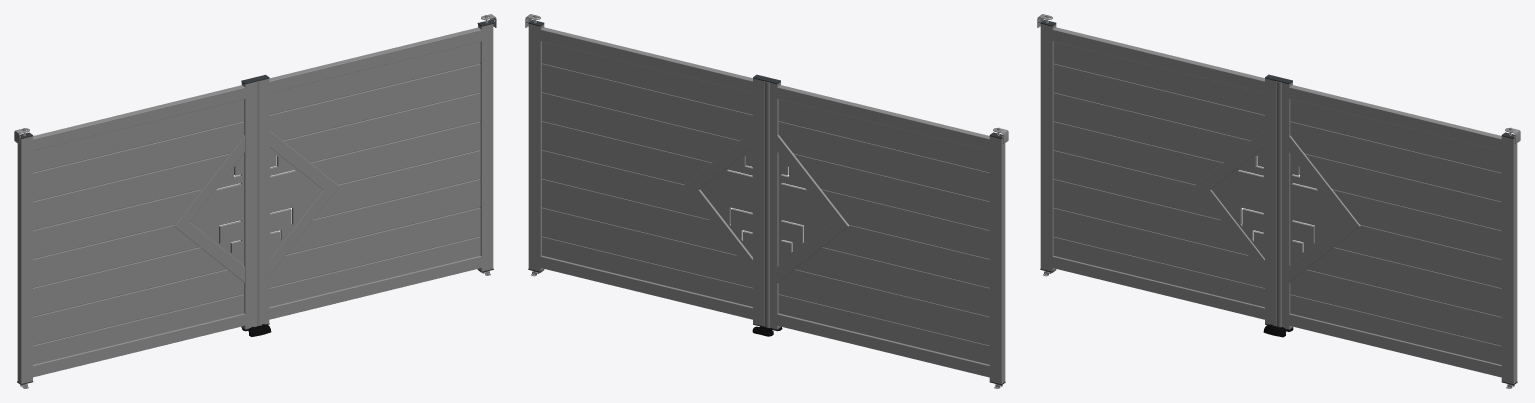
3 views of the same model, side by side, from view 1: azimuth 30°, elevation 25°; view 2: azimuth 150°, elevation 25°; view 3: azimuth 330°, elevation 25° (orthographic).
Parts seen in each view (by area): view 1: Shape107412932, Shape107412274, Shape107412643, Shape107412740, Shape107412931, Shape107412271, chip, Shape107412638, chip001, Shape107412933, Shape107412930, Line032 (+3 smaller); view 2: Shape107412932, Shape107412274, Shape107412643, Shape107412740, Shape107412271, Shape107412931, chip, chip001, Shape107412739, Shape107412933, Shape107412930, Shape107412638 (+3 smaller); view 3: Shape107412274, Shape107412932, Shape107412740, Shape107412643, Shape107412931, Shape107412271, chip001, chip, Shape107412638, Shape107412933, Shape107412930, Shape107412739 (+3 smaller).
Part boxes in pixels (x1=…): Shape107412932: x1=269, y1=41, x2=480, y2=306; Shape107412274: x1=33, y1=99, x2=244, y2=364; Shape107412643: x1=17, y1=136, x2=32, y2=383; Shape107412740: x1=478, y1=24, x2=493, y2=271; Shape107412931: x1=269, y1=27, x2=481, y2=92; Shape107412271: x1=33, y1=85, x2=245, y2=150; chip: x1=190, y1=153, x2=244, y2=265; Shape107412638: x1=241, y1=81, x2=256, y2=329; chip001: x1=269, y1=147, x2=322, y2=257; Shape107412933: x1=269, y1=255, x2=481, y2=319; Shape107412930: x1=33, y1=313, x2=245, y2=377; Line032: x1=173, y1=135, x2=244, y2=282; Shape107412932: x1=542, y1=41, x2=752, y2=306; Shape107412274: x1=778, y1=99, x2=989, y2=364; Shape107412643: x1=989, y1=136, x2=1005, y2=383; Shape107412740: x1=528, y1=24, x2=544, y2=271; Shape107412271: x1=777, y1=85, x2=989, y2=150; Shape107412931: x1=540, y1=27, x2=752, y2=92; chip: x1=778, y1=154, x2=832, y2=265; chip001: x1=700, y1=147, x2=752, y2=256; Shape107412739: x1=753, y1=78, x2=764, y2=326; Shape107412933: x1=540, y1=255, x2=752, y2=319; Shape107412930: x1=777, y1=313, x2=989, y2=377; Shape107412638: x1=765, y1=81, x2=780, y2=329; Shape107412274: x1=1053, y1=41, x2=1264, y2=307; Shape107412932: x1=1290, y1=99, x2=1501, y2=364; Shape107412740: x1=1501, y1=136, x2=1517, y2=383; Shape107412643: x1=1040, y1=24, x2=1056, y2=271; Shape107412931: x1=1289, y1=85, x2=1501, y2=150; Shape107412271: x1=1052, y1=27, x2=1264, y2=92; chip001: x1=1290, y1=154, x2=1343, y2=264; chip: x1=1211, y1=147, x2=1264, y2=258; Shape107412638: x1=1265, y1=78, x2=1276, y2=326; Shape107412933: x1=1289, y1=313, x2=1501, y2=377; Shape107412930: x1=1052, y1=255, x2=1264, y2=319; Shape107412739: x1=1277, y1=81, x2=1292, y2=329.
Bounding box in the file's own units: 3260 × 1696 × 146.
Materials: 7 (2 with a texture image).
